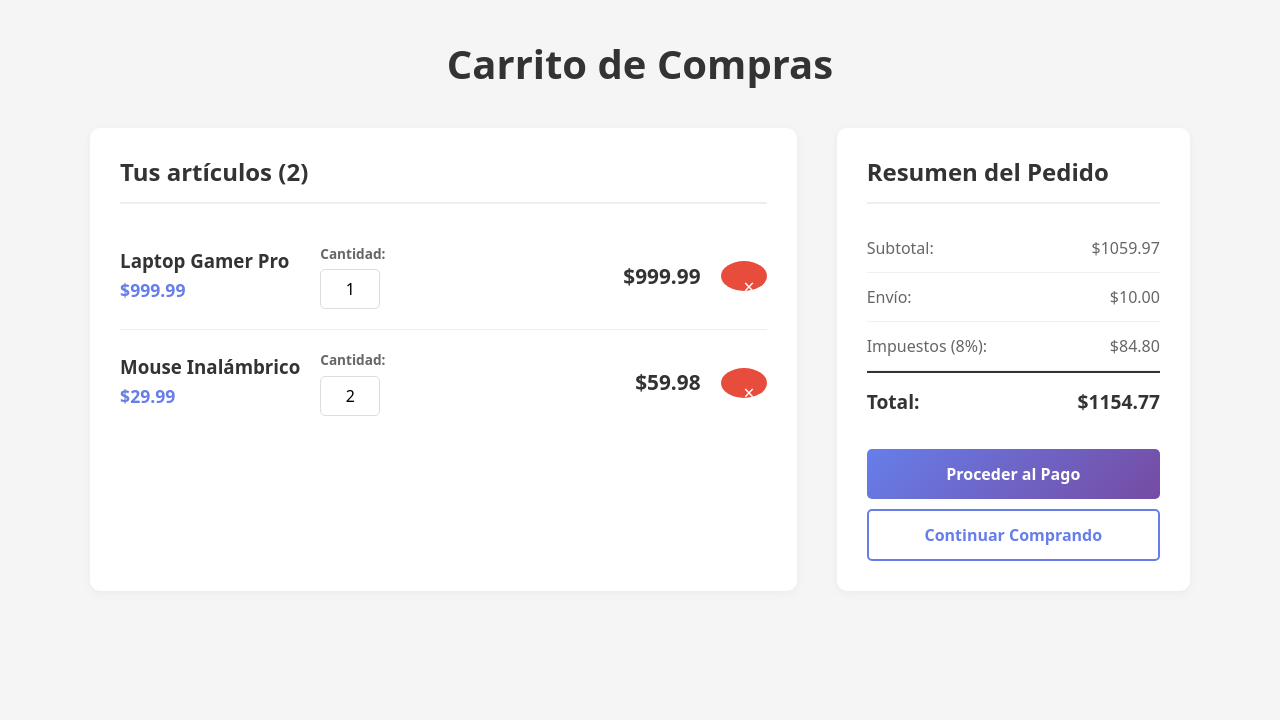
it: Cart Page › Modal de Checkout › debe abrir el modal al hacer clic en "Proceder al Pago"
The width and height of the screenshot is (1280, 720).
What coordinates should you click on to do the following:
click the button "Proceder al Pago"
I would click on:
 (1013, 474)
Its box is [867,449,1160,499].
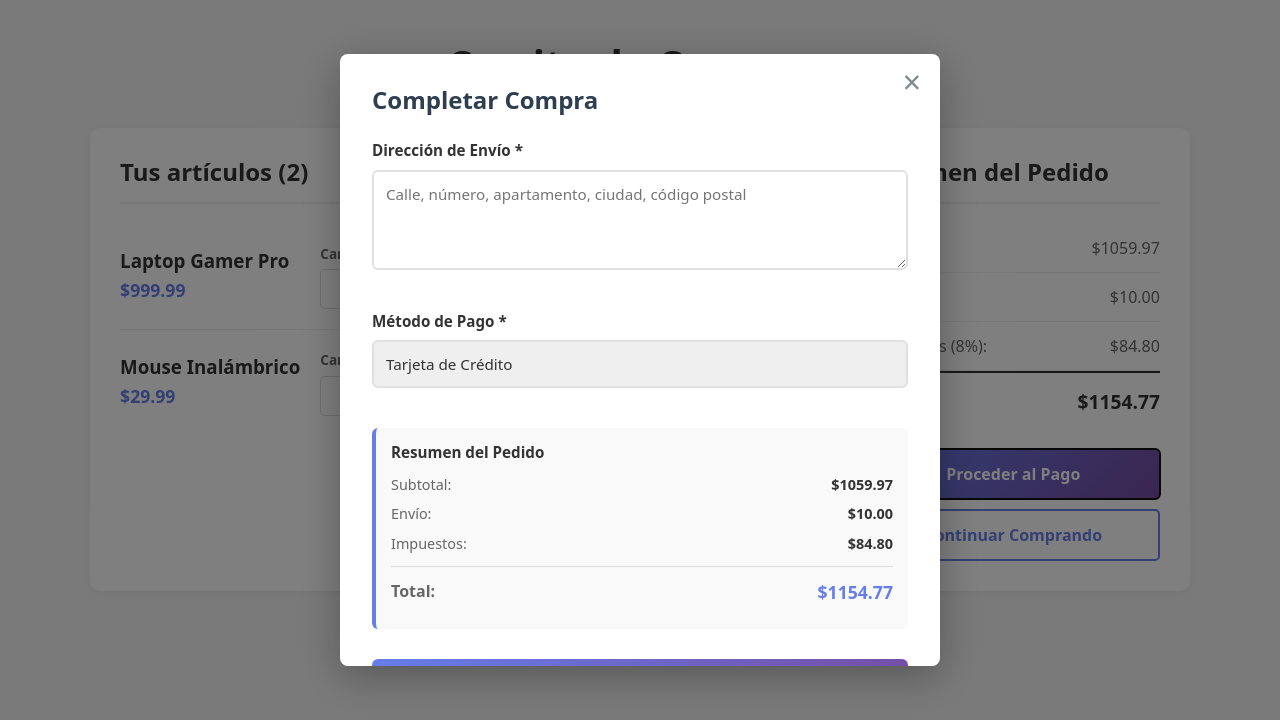
Result: the heading "Completar Compra" is shown at [372,83,598,116]
